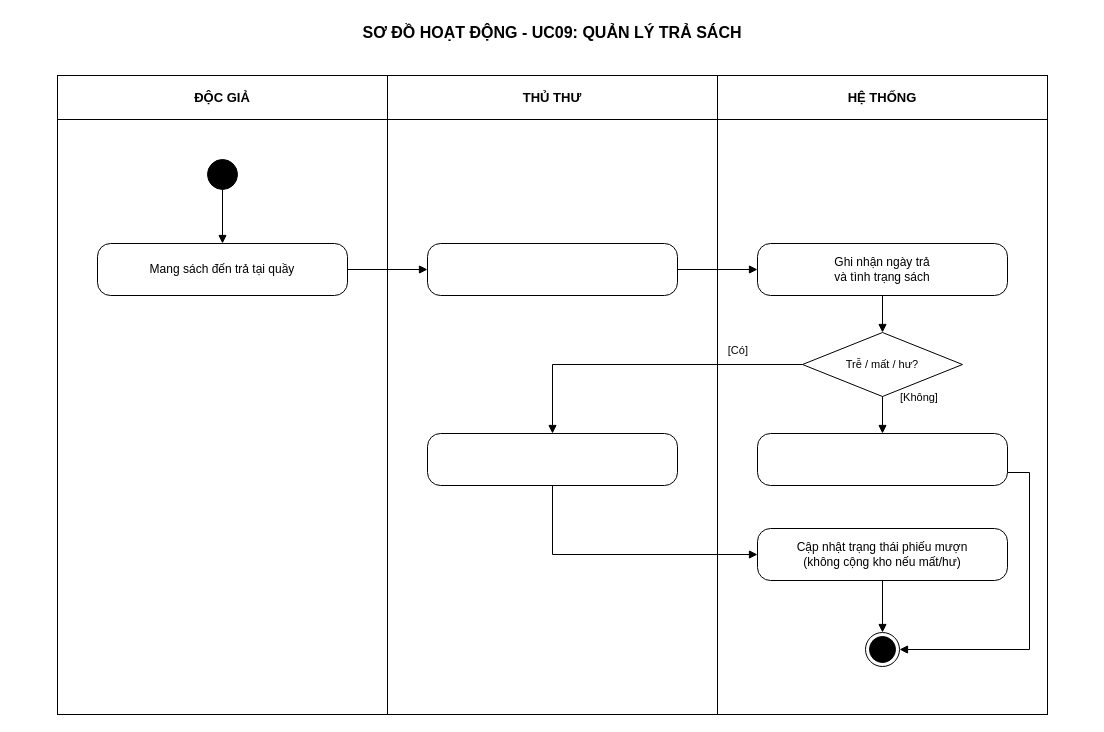
Some shapes in this 1104 by 732 pixel diagram are drawn without their labels. The centre of each missing label's shape, as x and y in pixels:
"Cập nhật ngày trả thực tế & tăng tồn kho khả dụng (+1)" belongs at point 882,459.
"Kiểm tra tình trạng sách (bình thường, rách, mất...)" belongs at point 552,269.
"Lập phiếu phạt và thu phí phạt cụ thể" belongs at point 552,459.
